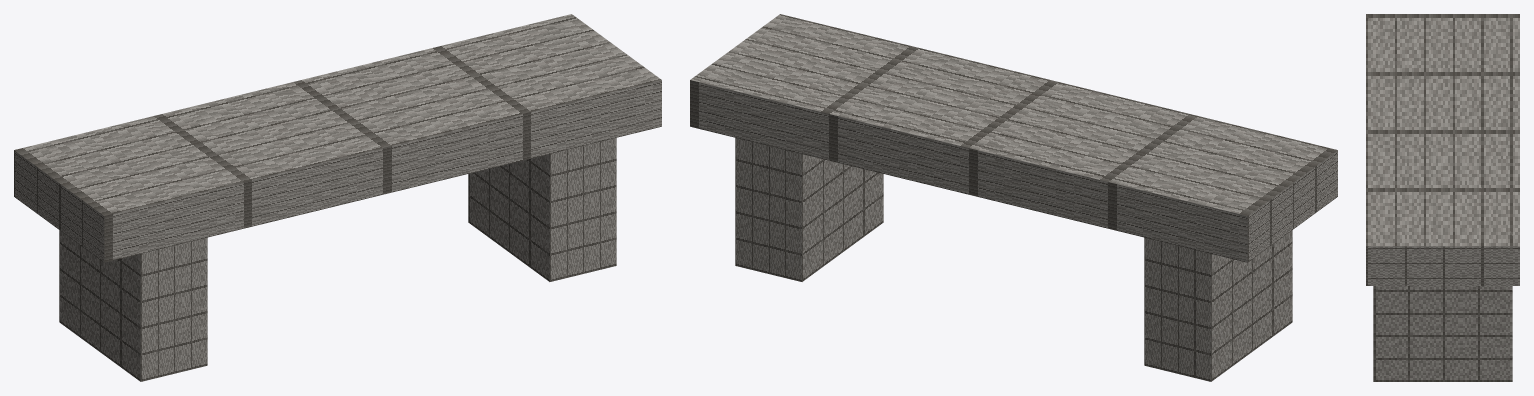
The model's file is bench.glb.
3 renders of one model, left to right at view 1: azimuth 30°, elevation 25°; view 2: azimuth 150°, elevation 25°; view 3: azimuth 270°, elevation 25°, orthographic. The views are drawn at different scales.
Visible parts, largest first — view 1: bench; view 2: bench; view 3: bench.
Boxes of the visible parts, box(x1,y1,x2,y2) form: bench: box(14, 14, 661, 381); bench: box(690, 14, 1337, 381); bench: box(1366, 14, 1519, 381).
Size of the model in its own units: 1.5 by 0.46 by 0.42.
Materials: 1 (1 with a texture image).
